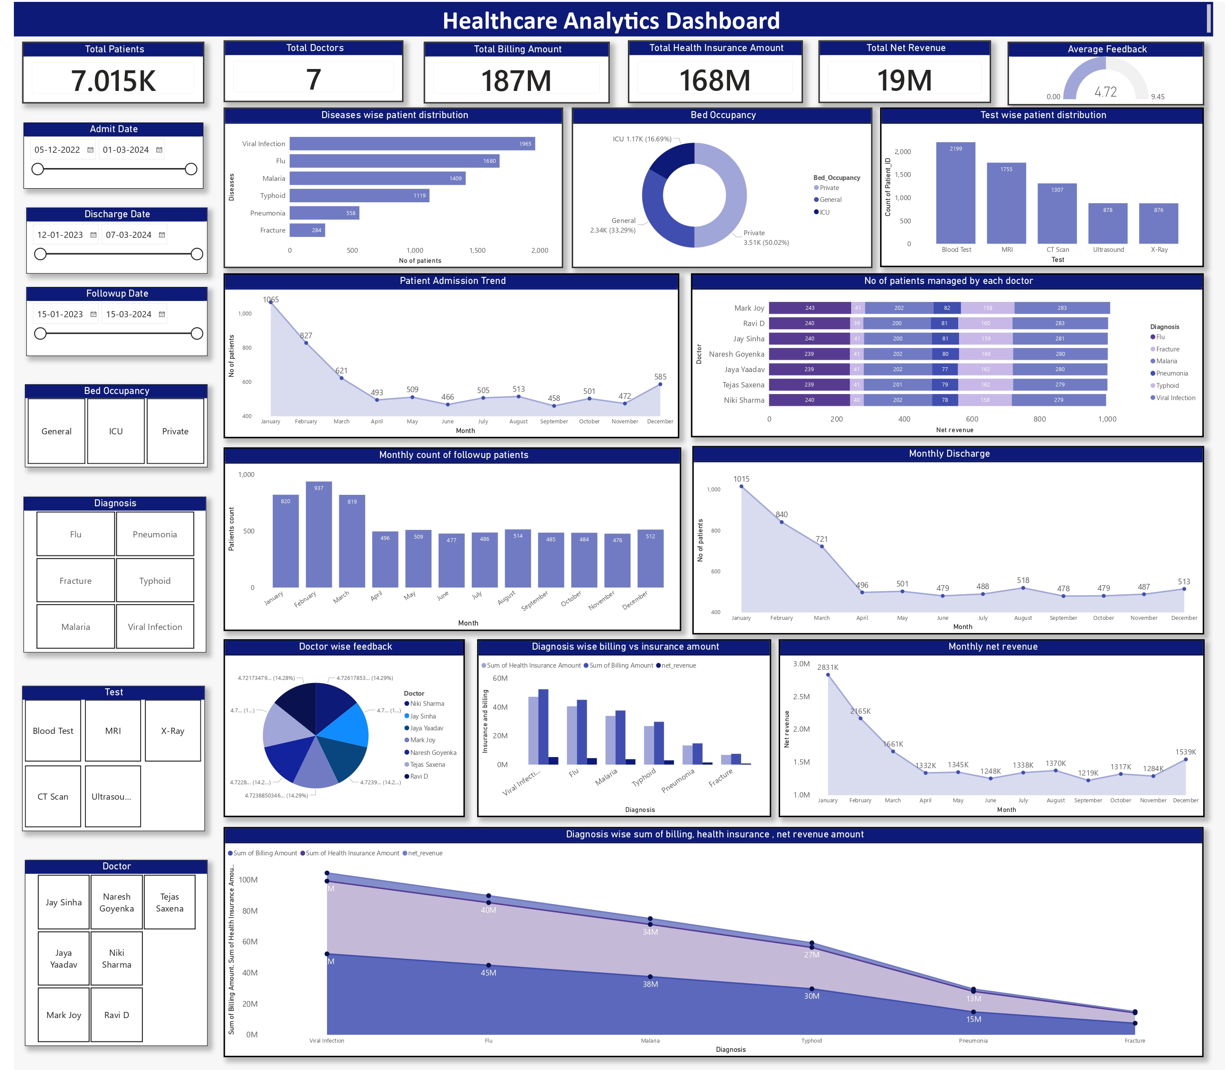

What the dashboard file says about the page in this screenshot:
{"tool":"powerbi","page":{"name":"Page 1","canvas":[2500,2200],"ordinal":0},"visuals":[{"type":"cardVisual","title":"Total Doctors","fields":{"Data":["Count(Healthcare Dataset.Doctor)"]},"box":[437.5,79.2,375,129.2],"z":0},{"type":"cardVisual","title":"Total Billing Amount","fields":{"Data":["Sum(Healthcare Dataset.Billing Amount)"]},"box":[854.2,83.3,387.5,129.2],"z":1000},{"type":"cardVisual","title":"Total Net Revenue","fields":{"Data":["Healthcare Dataset.net_revenue"]},"box":[1677.1,79.2,360.4,131.2],"z":2000},{"type":"cardVisual","title":"Total Health Insurance Amount","fields":{"Data":["Sum(Healthcare Dataset.Health Insurance Amount)"]},"box":[1281.2,79.2,364.6,131.2],"z":3000},{"type":"textbox","box":[0,0,2500,71.9],"z":4000},{"type":"barChart","title":"Diseases wise patient distribution","fields":{"Category":["Healthcare Dataset.Diagnosis"],"Y":["CountNonNull(Healthcare Dataset.Patient_ID)"]},"box":[437.5,218.8,708.3,335.4],"z":5000},{"type":"areaChart","title":"Patient Admission Trend","fields":{"Y":["CountNonNull(Healthcare Dataset.Patient_ID)"],"Category":["Healthcare Dataset.Admit_Date.Variation.Date Hierarchy.Month"]},"box":[437.5,566.7,950,343.8],"z":6000},{"type":"slicer","title":"Diagnosis","fields":{"Values":["Healthcare Dataset.Diagnosis"]},"box":[20.8,1031.2,381.2,325],"z":7000},{"type":"advancedSlicerVisual","title":"Bed Occupancy","fields":{"Values":["Healthcare Dataset.Bed_Occupancy"]},"box":[22.9,797.9,381.2,172.9],"z":8000},{"type":"advancedSlicerVisual","fields":{"Values":["Healthcare Dataset.Test"]},"box":[15.7,1425.7,381.4,302.9],"z":9000},{"type":"slicer","title":"Admit Date","fields":{"Values":["Healthcare Dataset.Admit_Date"]},"box":[18.8,250,375,137.5],"z":10000},{"type":"slicer","title":"Doctor","fields":{"Values":["Healthcare Dataset.Doctor"]},"box":[21.9,1787.5,381.2,387.5],"z":11000},{"type":"cardVisual","title":"Total Patients","fields":{"Data":["Count(Healthcare Dataset.Patient_ID)"]},"box":[16.3,81.6,379.6,128.6],"z":12000},{"type":"donutChart","title":"Bed Occupancy","fields":{"Category":["Healthcare Dataset.Bed_Occupancy"],"Y":["CountNonNull(Healthcare Dataset.Patient_ID)"]},"box":[1162.5,218.8,627.1,335.4],"z":13000},{"type":"clusteredColumnChart","title":"Diagnosis wise billing vs insurance amount","fields":{"Y":["Sum(Healthcare Dataset.Health Insurance Amount)","Sum(Healthcare Dataset.Billing Amount)","Healthcare Dataset.net_revenue"],"Category":["Healthcare Dataset.Diagnosis"]},"box":[964.4,1328.9,613.3,371.1],"z":14000},{"type":"barChart","title":"No of patients managed by each doctor","fields":{"Category":["Healthcare Dataset.Doctor"],"Y":["CountNonNull(Healthcare Dataset.Patient_ID)"],"Series":["Healthcare Dataset.Diagnosis"]},"box":[1411.5,565.4,1069.2,342.3],"z":15000},{"type":"gauge","title":"Average Feedback","fields":{"Y":["Avg(Healthcare Dataset.Feedback)"]},"box":[2070.8,83.3,410.4,133.3],"z":16000},{"type":"pieChart","title":"Doctor wise feedback","fields":{"Category":["Healthcare Dataset.Doctor"],"Y":["Avg(Healthcare Dataset.Feedback)"]},"box":[437.1,1328.6,502.9,371.4],"z":17000},{"type":"columnChart","title":"Test wise patient distribution","fields":{"Category":["Healthcare Dataset.Test"],"Y":["CountNonNull(Healthcare Dataset.Patient_ID)"]},"box":[1806.2,218.8,675,333.3],"z":18000},{"type":"areaChart","title":"Monthly net revenue","fields":{"Category":["Healthcare Dataset.Admit_Date.Variation.Date Hierarchy.Month"],"Y":["Healthcare Dataset.net_revenue"]},"box":[1592.9,1328.6,888.1,371.4],"z":19000},{"type":"areaChart","title":"Monthly Discharge","fields":{"Y":["CountNonNull(Healthcare Dataset.Patient_ID)"],"Category":["Healthcare Dataset.Discharge_Date.Variation.Date Hierarchy.Month"]},"box":[1414.3,926.2,1066.7,392.9],"z":20000},{"type":"columnChart","title":"Monthly count of followup patients","fields":{"Category":["Healthcare Dataset.Followup Date.Variation.Date Hierarchy.Month"],"Y":["CountNonNull(Healthcare Dataset.Patient_ID)"]},"box":[437.1,928.6,954.3,382.9],"z":21000},{"type":"stackedAreaChart","title":"Diagnosis wise sum of billing, health insurance , net revenue amount","fields":{"Category":["Healthcare Dataset.Diagnosis"],"Y":["Sum(Healthcare Dataset.Billing Amount)","Sum(Healthcare Dataset.Health Insurance Amount)","Healthcare Dataset.net_revenue"]},"box":[437.1,1720,2042.9,480],"z":22000},{"type":"slicer","title":"Discharge Date","fields":{"Values":["Healthcare Dataset.Discharge_Date"]},"box":[25,428.1,378.1,137.5],"z":23000},{"type":"slicer","title":"Followup Date","fields":{"Values":["Healthcare Dataset.Followup Date"]},"box":[25,593.8,378.1,143.8],"z":24000}]}

Visuals, with their boxes in screenshot pixels (x1, y1, x2, y2), scaled from the page's 2500x2200 canvas onto the 1225x1070 screenshot:
"Total Doctors" cardVisual: x1=214, y1=39, x2=398, y2=101
"Total Billing Amount" cardVisual: x1=419, y1=41, x2=608, y2=103
"Total Net Revenue" cardVisual: x1=822, y1=39, x2=998, y2=102
"Total Health Insurance Amount" cardVisual: x1=628, y1=39, x2=806, y2=102
textbox: x1=0, y1=0, x2=1224, y2=35
"Diseases wise patient distribution" barChart: x1=214, y1=106, x2=561, y2=270
"Patient Admission Trend" areaChart: x1=214, y1=276, x2=680, y2=443
"Diagnosis" slicer: x1=10, y1=502, x2=197, y2=660
"Bed Occupancy" advancedSlicerVisual: x1=11, y1=388, x2=198, y2=472
advancedSlicerVisual - Healthcare Dataset.Test: x1=8, y1=693, x2=195, y2=841
"Admit Date" slicer: x1=9, y1=122, x2=193, y2=188
"Doctor" slicer: x1=11, y1=869, x2=198, y2=1058
"Total Patients" cardVisual: x1=8, y1=40, x2=194, y2=102
"Bed Occupancy" donutChart: x1=570, y1=106, x2=877, y2=270
"Diagnosis wise billing vs insurance amount" clusteredColumnChart: x1=473, y1=646, x2=773, y2=827
"No of patients managed by each doctor" barChart: x1=692, y1=275, x2=1216, y2=441
"Average Feedback" gauge: x1=1015, y1=41, x2=1216, y2=105
"Doctor wise feedback" pieChart: x1=214, y1=646, x2=461, y2=827
"Test wise patient distribution" columnChart: x1=885, y1=106, x2=1216, y2=269
"Monthly net revenue" areaChart: x1=781, y1=646, x2=1216, y2=827
"Monthly Discharge" areaChart: x1=693, y1=450, x2=1216, y2=642
"Monthly count of followup patients" columnChart: x1=214, y1=452, x2=682, y2=638
"Diagnosis wise sum of billing, health insurance , net revenue amount" stackedAreaChart: x1=214, y1=837, x2=1215, y2=1069
"Discharge Date" slicer: x1=12, y1=208, x2=198, y2=275
"Followup Date" slicer: x1=12, y1=289, x2=198, y2=359
